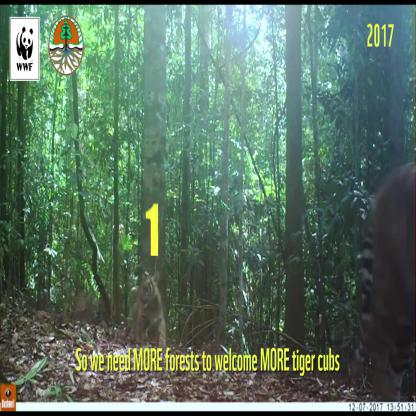Tiger: (120, 274, 171, 350)
